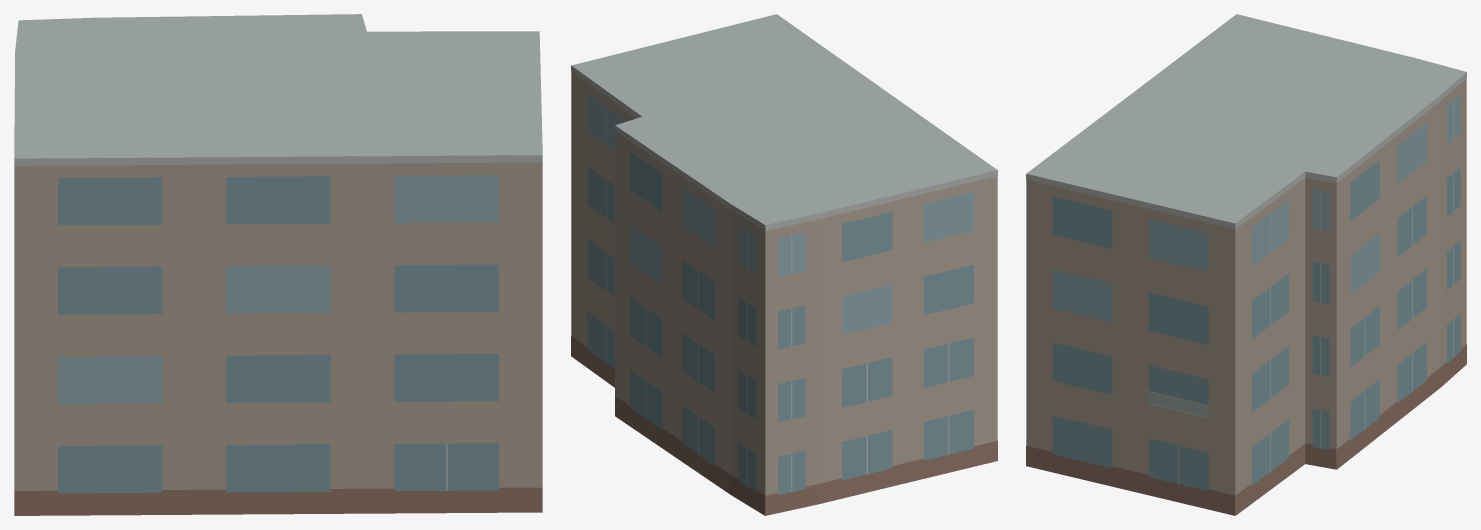
The model's file is survey-upis-32730525.glb.
The picture shows the model from 3 angles, left to right: view 1: azimuth 30°, elevation 25°; view 2: azimuth 150°, elevation 25°; view 3: azimuth 270°, elevation 25°; orthographic projection. The views are drawn at different scales.
Visible parts, largest first — view 1: survey-upis-32730525.tmp; view 2: survey-upis-32730525.tmp; view 3: survey-upis-32730525.tmp.
Boxes of the visible parts, x1,y1,x2,y2 form: survey-upis-32730525.tmp: (14,14,542,515); survey-upis-32730525.tmp: (571,14,997,515); survey-upis-32730525.tmp: (1026,14,1466,515).
Size of the model in its own units: 18.27 by 11.88 by 16.24.
